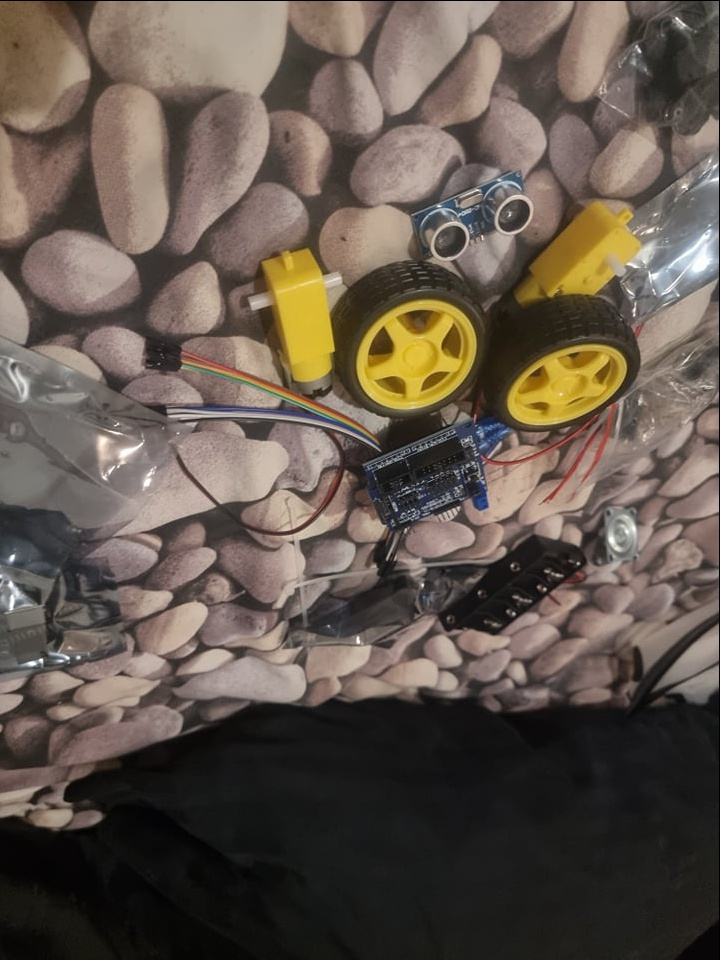5V EXPANSION: (360, 417, 491, 530)
BATTERY BOX: (446, 533, 588, 654)
SENSOR: (416, 177, 537, 261)
